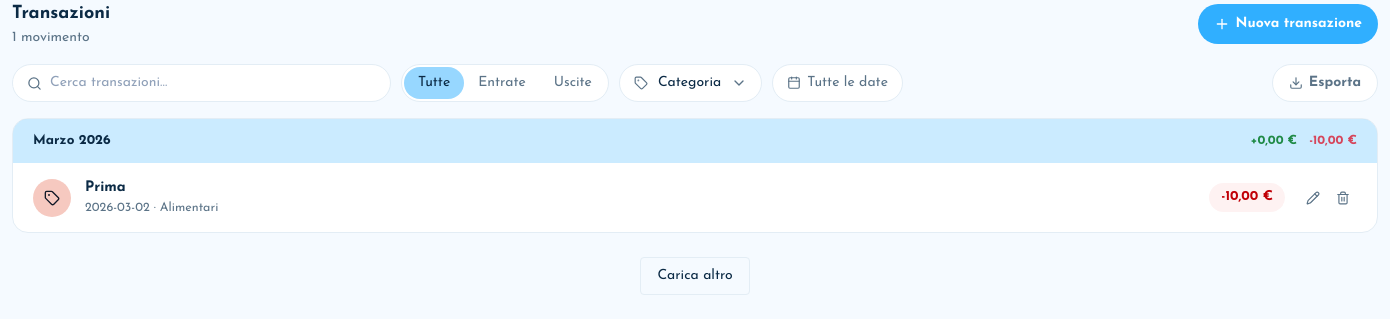
Test: elenco e paginazione › "Carica altro" accoda la pagina successiva invece di sostituirla
Expected: the text "Prima" is shown, 85,180 -> 126,195
Click the button "Carica altro" at (695, 276), box 640,257 -> 750,295
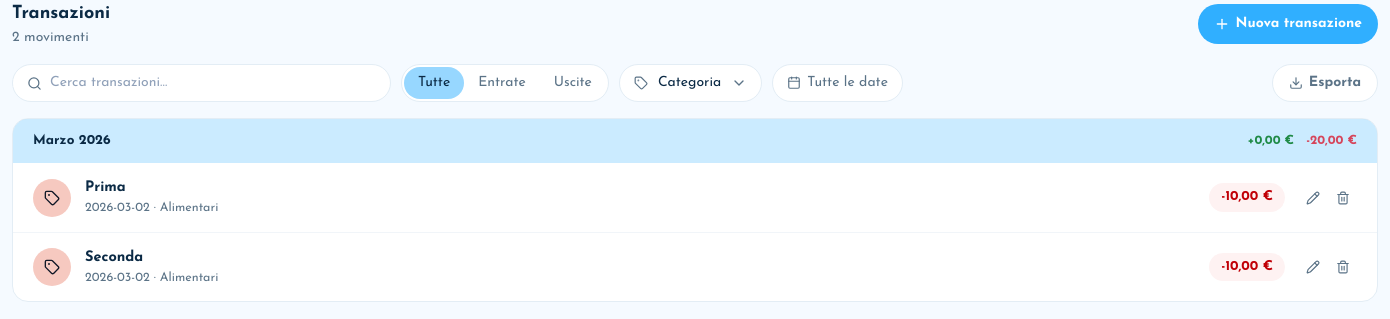
Expected: the text "Prima" is shown, 85,180 -> 126,195
Expected: the text "Seconda" is shown, 85,250 -> 143,265
